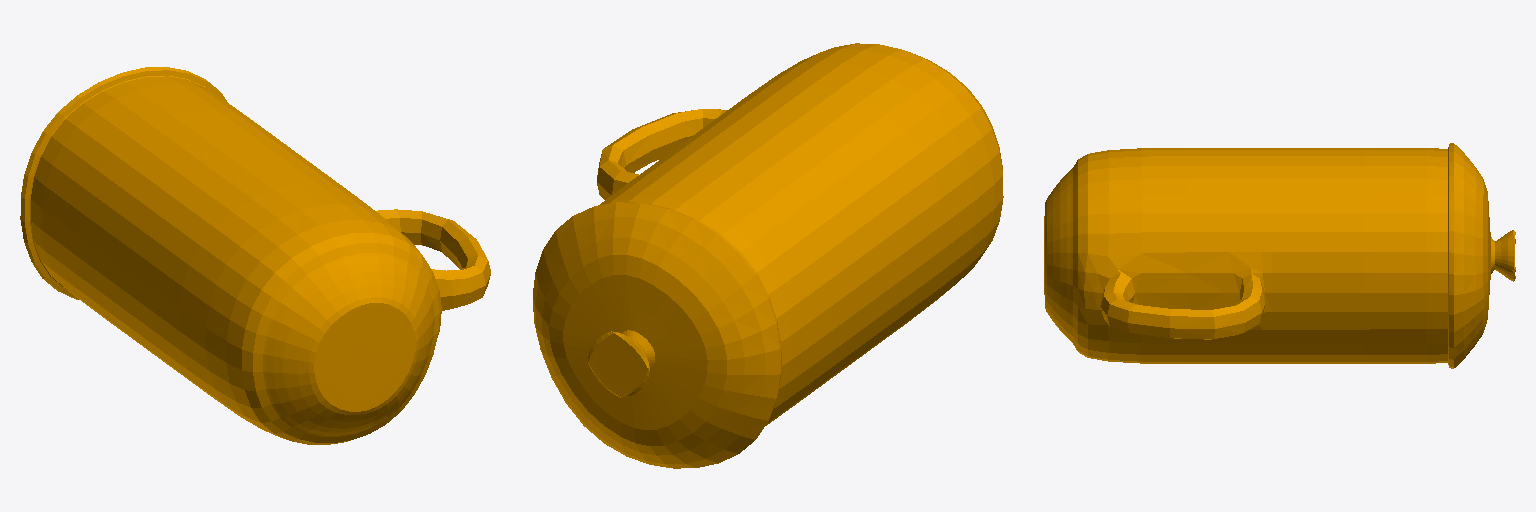
robot.urdf — 170:
<?xml version="1.0" ?>
<robot name="170">
  <link name="body">
    <visual>
      <geometry>
        <mesh filename="../shapes/170.obj"/>
      </geometry>
    </visual>
    <collision>
      <geometry>
        <mesh filename="../shapes/170.obj"/>
      </geometry>
    </collision>
  </link>
</robot>

--- Facts derived from the render (not from the file) ---
The picture shows the robot from 3 angles, left to right: view 1: azimuth 30°, elevation 25°; view 2: azimuth 150°, elevation 25°; view 3: azimuth 270°, elevation 25°; orthographic projection.
Robot: 170 — 1 links, 0 joints (none); root link body; default pose: every joint at zero.
Visible links, largest first — view 1: body; view 2: body; view 3: body.
Boxes of the visible links, <box> form: body: <box>20,67,490,444</box>; body: <box>533,43,1003,468</box>; body: <box>1044,143,1515,368</box>.
Bounding box of the posed robot: 3.43 × 5.38 × 2.55 m (x, y, z).
Meshes: 1 distinct files referenced, 1 mesh visuals loaded (1 OBJ).